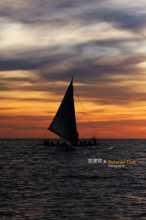fanchuan: (43, 76, 99, 150)
